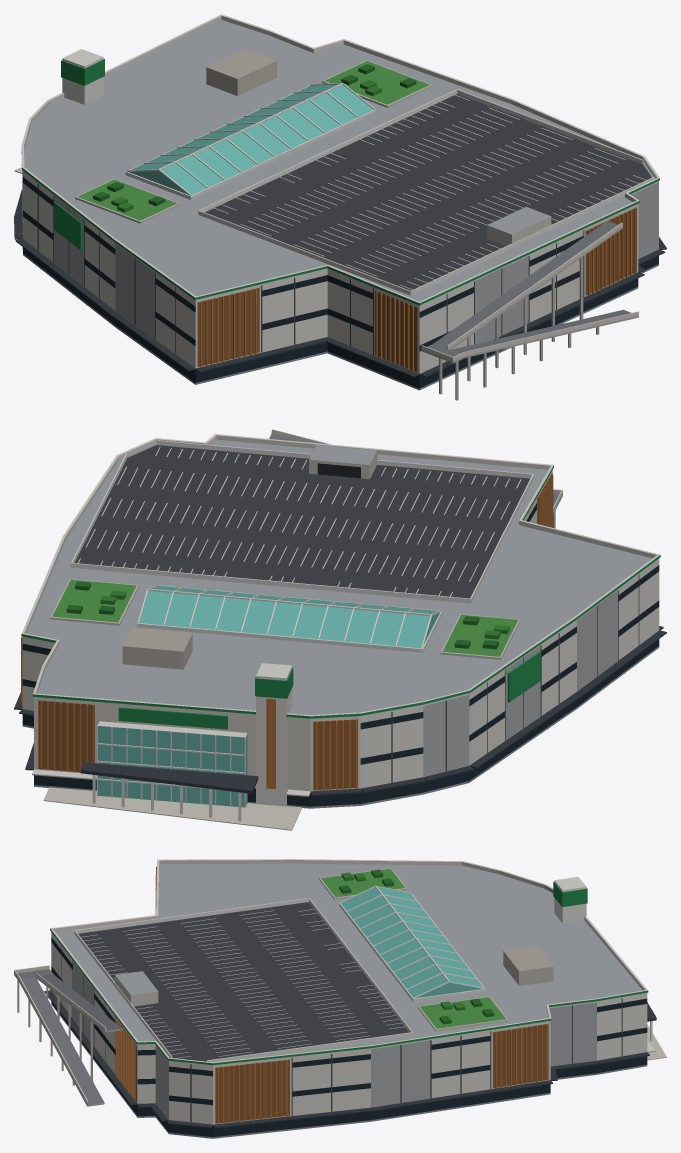
Rendered from living-world-lod0.glb.
3 renders of one model, top to bottom at view 1: azimuth 30°, elevation 25°; view 2: azimuth 150°, elevation 25°; view 3: azimuth 270°, elevation 25°, orthographic. The views are drawn at different scales.
Visible parts, largest first — view 1: living-world_LOD0; view 2: living-world_LOD0; view 3: living-world_LOD0.
Part boxes in pixels (box(x1,y1,x2,y2)): living-world_LOD0: box(14, 14, 666, 400); living-world_LOD0: box(14, 429, 666, 830); living-world_LOD0: box(14, 859, 666, 1138).
Bounding box in the file's own units: 137 × 32.35 × 180.
